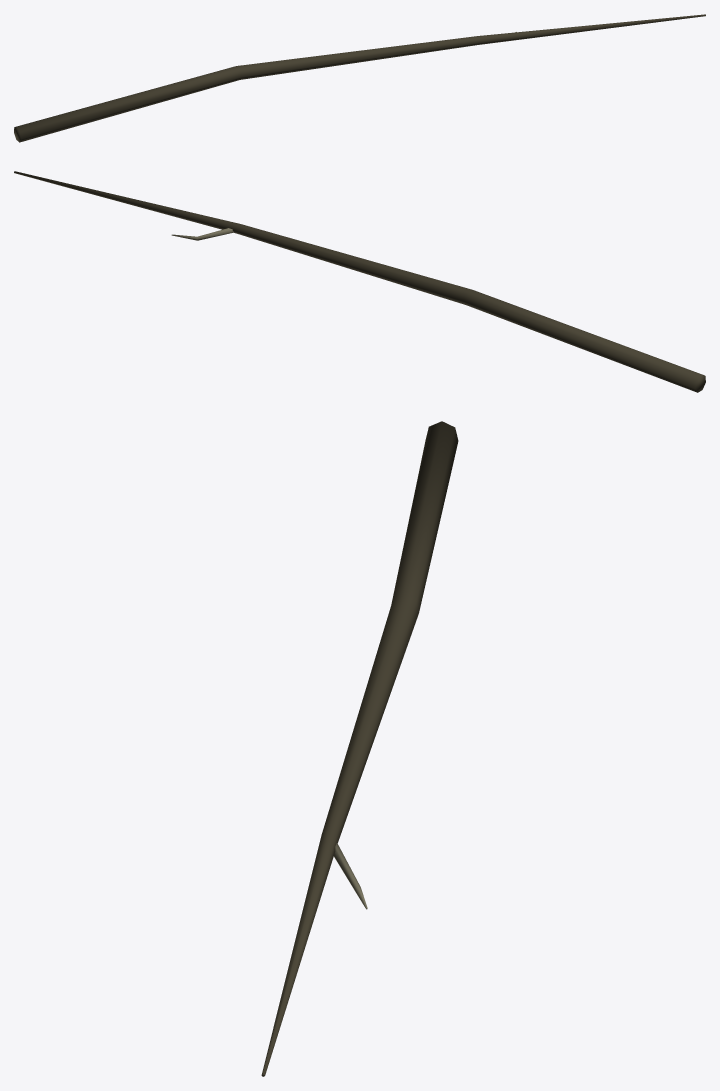
File: floor-crossing-root.glb
3 renders of one model, top to bottom at view 1: azimuth 30°, elevation 25°; view 2: azimuth 150°, elevation 25°; view 3: azimuth 270°, elevation 25°, orthographic. The views are drawn at different scales.
Visible parts, largest first — view 1: Surface; view 2: Surface; view 3: Surface.
Boxes of the visible parts, box(x1,y1,x2,y2) form: Surface: box(14, 14, 705, 142); Surface: box(14, 171, 705, 392); Surface: box(261, 421, 458, 1076).
Size of the model in its own units: 1.58 by 0.0722 by 0.2094.
